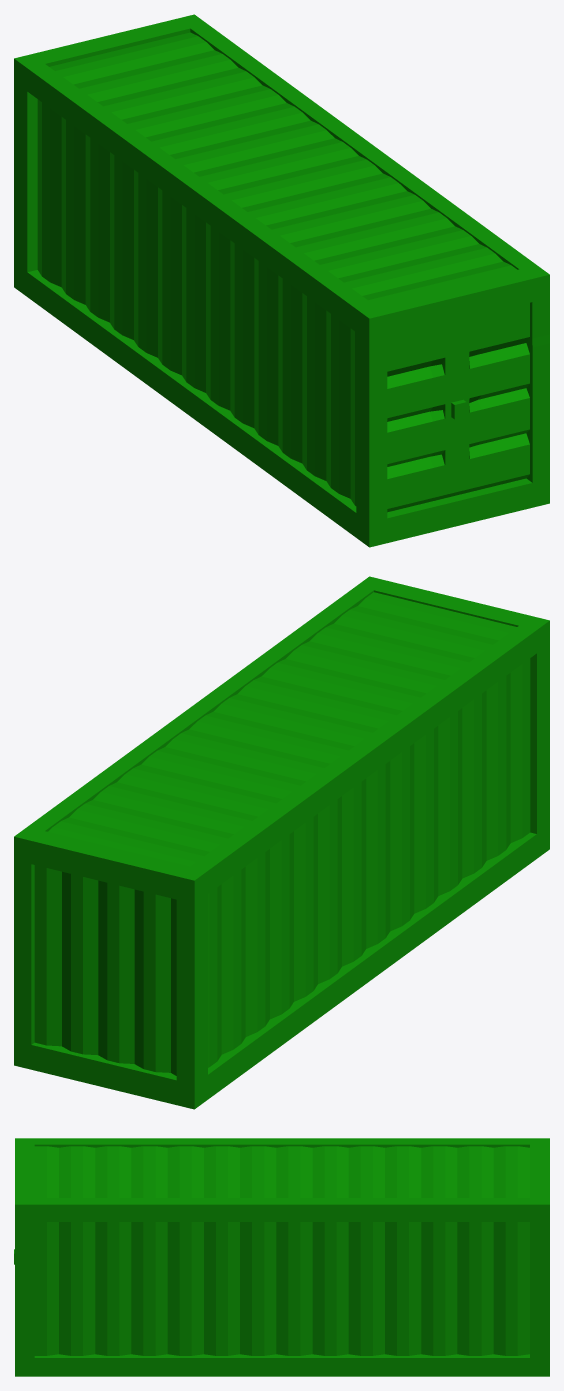
The model's file is ContenedorVerde.fbx.
3 views of the same model, one above another, from view 1: azimuth 30°, elevation 25°; view 2: azimuth 150°, elevation 25°; view 3: azimuth 270°, elevation 25° (orthographic). The views are drawn at different scales.
Parts seen in each view (by area): view 1: Cubo.002; view 2: Cubo.002; view 3: Cubo.002.
Boxes of the visible parts, x1,y1,x2,y2 form: Cubo.002: (14,14,549,547); Cubo.002: (14,576,549,1109); Cubo.002: (14,1138,549,1376).
Size of the model in its own units: 570 by 690 by 1947.
